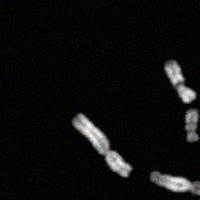chromosome: (72, 113, 132, 179), (148, 169, 200, 199), (165, 59, 197, 104), (184, 109, 200, 142)
